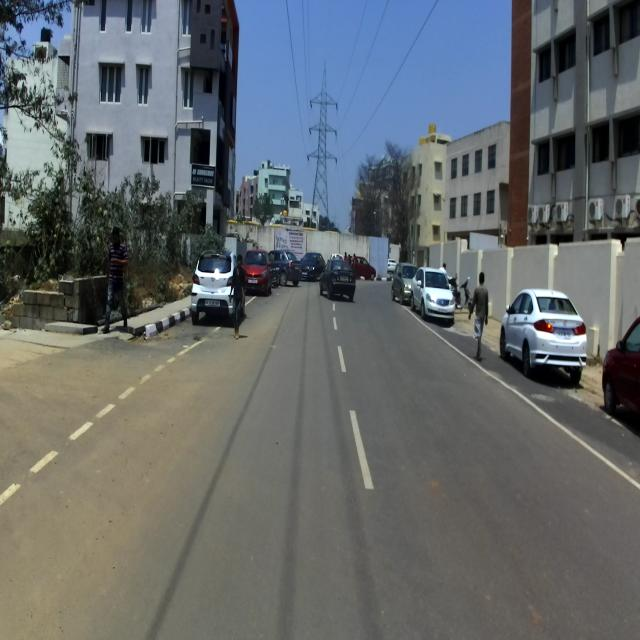car ahead at: (500, 289, 589, 381), (187, 256, 235, 316)
person ahead at: (468, 269, 498, 368)
